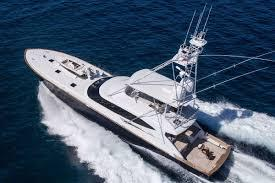fishing boat: (21, 26, 237, 182)
